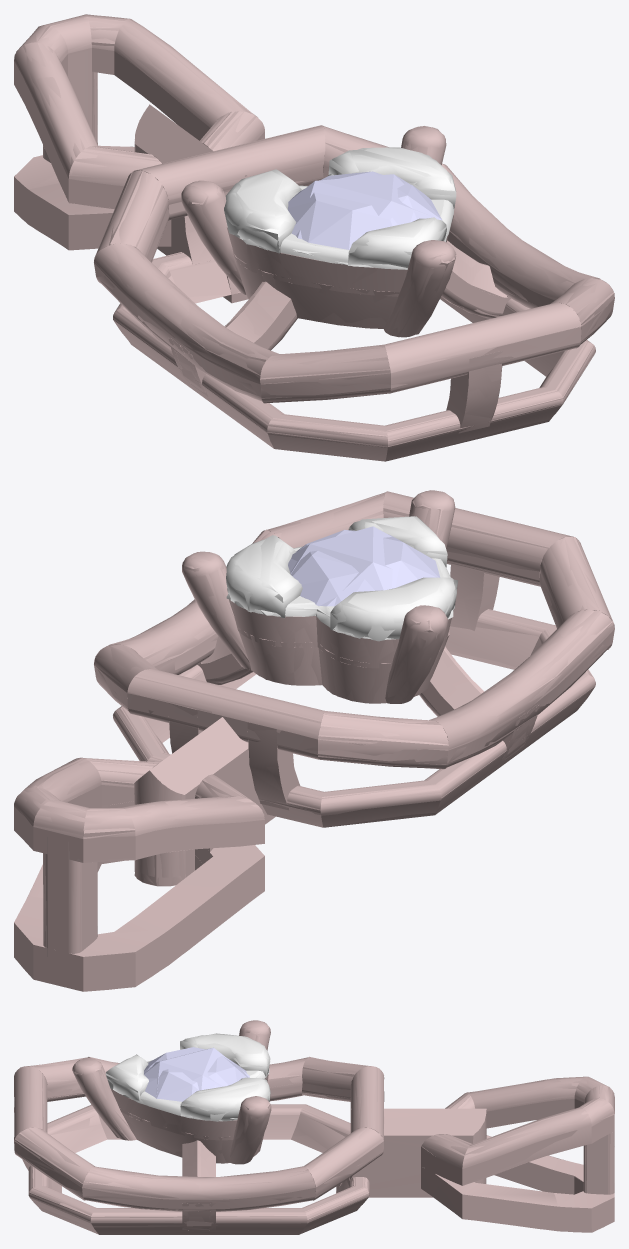
The model's file is DCP-D000737504.glb.
3 renders of one model, top to bottom at view 1: azimuth 30°, elevation 25°; view 2: azimuth 150°, elevation 25°; view 3: azimuth 270°, elevation 25°, orthographic. The views are drawn at different scales.
Visible parts, largest first — view 1: highPolyMesh, lowPolyMesh; view 2: highPolyMesh, lowPolyMesh; view 3: highPolyMesh, lowPolyMesh.
Part boxes in pixels (<box>): highPolyMesh: <box>14,15,614,461</box>; lowPolyMesh: <box>14,14,614,461</box>; highPolyMesh: <box>14,490,614,991</box>; lowPolyMesh: <box>14,490,614,991</box>; highPolyMesh: <box>14,1020,614,1234</box>; lowPolyMesh: <box>14,1020,614,1234</box>.
Size of the model in its own units: 0.00852 by 0.00508 by 0.0178.
